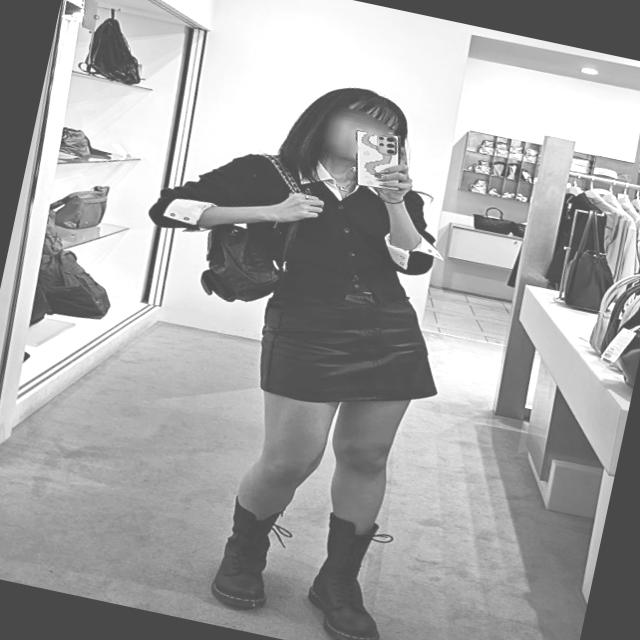cardigan: (132, 128, 449, 324)
skirt: (248, 256, 462, 430)
